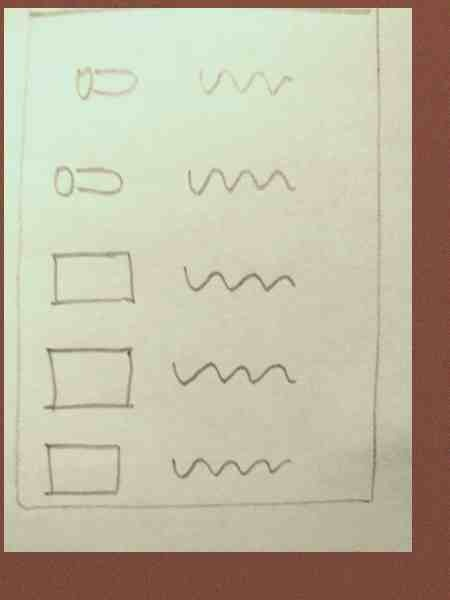switch: (48, 157, 126, 203), (65, 59, 142, 105)
text: (166, 353, 301, 395), (162, 443, 297, 485), (179, 256, 297, 299), (183, 160, 297, 201), (190, 64, 296, 100)
text_input: (39, 343, 139, 413), (43, 249, 146, 312), (37, 439, 124, 502)
